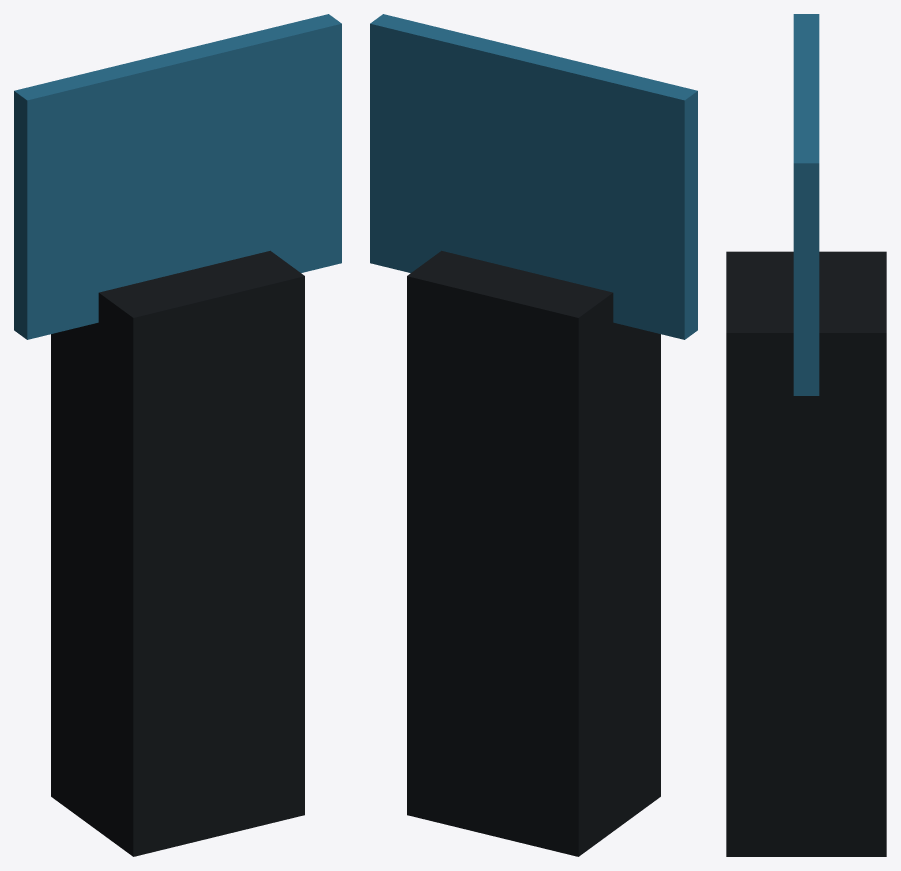
3 renders of one model, left to right at view 1: azimuth 30°, elevation 25°; view 2: azimuth 150°, elevation 25°; view 3: azimuth 270°, elevation 25°, orthographic. The views are drawn at different scales.
Parts seen in each view (by area): view 1: column, screen; view 2: column, screen; view 3: column, screen.
Boxes of the visible parts, x1=… form: column: x1=51, y1=250, x2=304, y2=856; screen: x1=14, y1=14, x2=341, y2=339; column: x1=407, y1=250, x2=660, y2=856; screen: x1=370, y1=14, x2=697, y2=339; column: x1=726, y1=251, x2=886, y2=856; screen: x1=793, y1=14, x2=819, y2=395.
Bounding box in the file's own units: 0.55 × 1.25 × 0.25.
